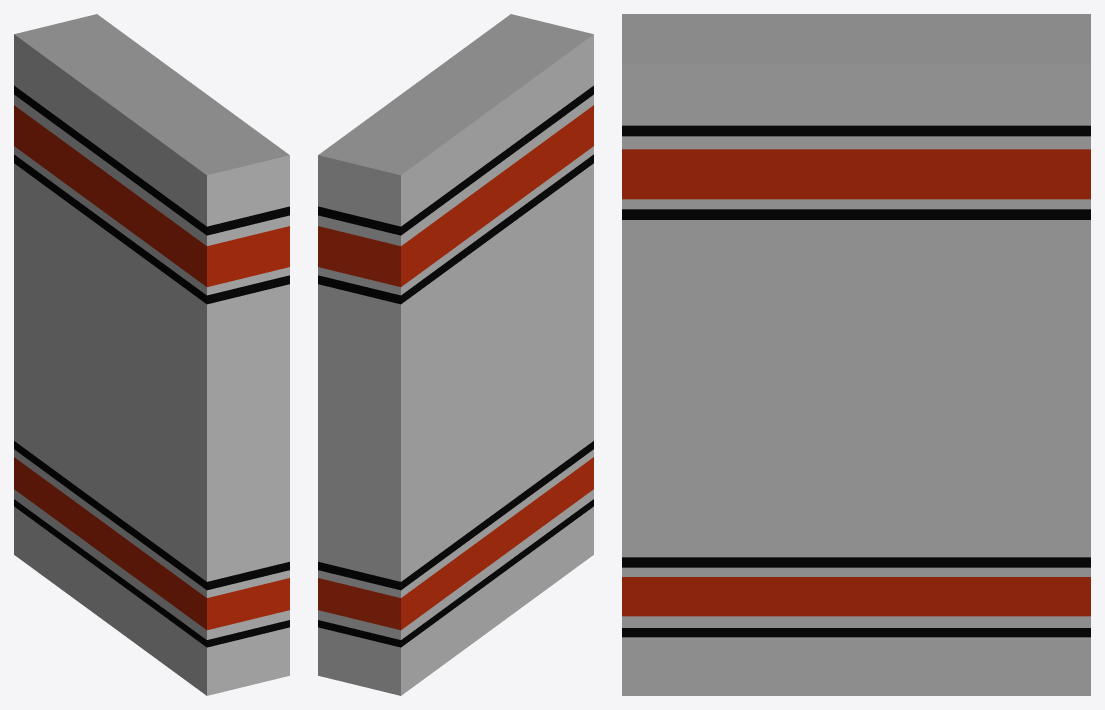
Rendered from Mur_labo_6x4.FBX.
3 renders of one model, left to right at view 1: azimuth 30°, elevation 25°; view 2: azimuth 150°, elevation 25°; view 3: azimuth 270°, elevation 25°, orthographic. The views are drawn at different scales.
Parts seen in each view (by area): view 1: Box005; view 2: Box005; view 3: Box005.
Boxes of the visible parts, x1,y1,x2,y2 form: Box005: [14, 14, 289, 695]; Box005: [318, 14, 593, 695]; Box005: [622, 14, 1090, 695].
Bounding box in the file's own units: 1 × 6 × 4.03.
